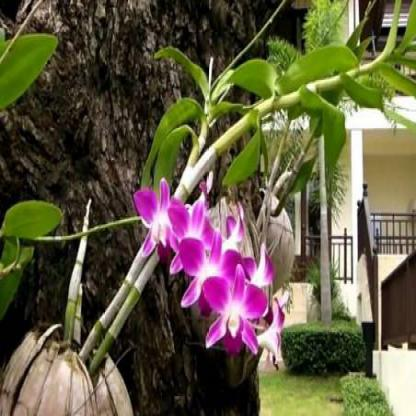ANGGREK: (129, 125, 322, 366)
